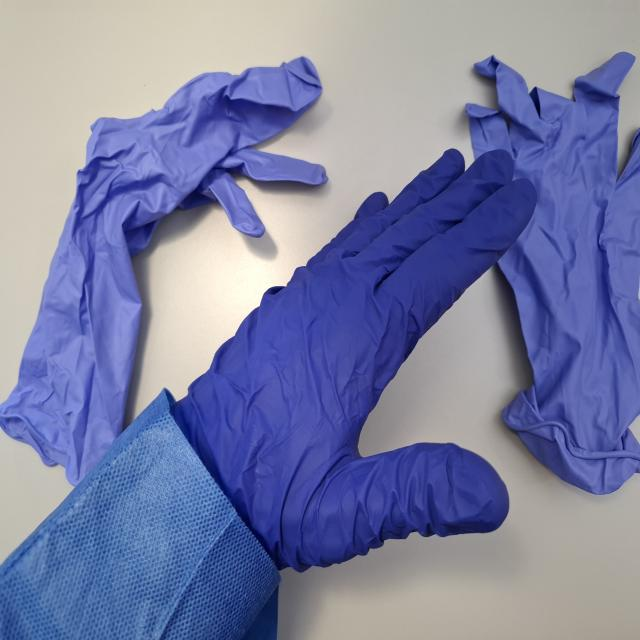glove_on: (169, 145, 540, 574)
